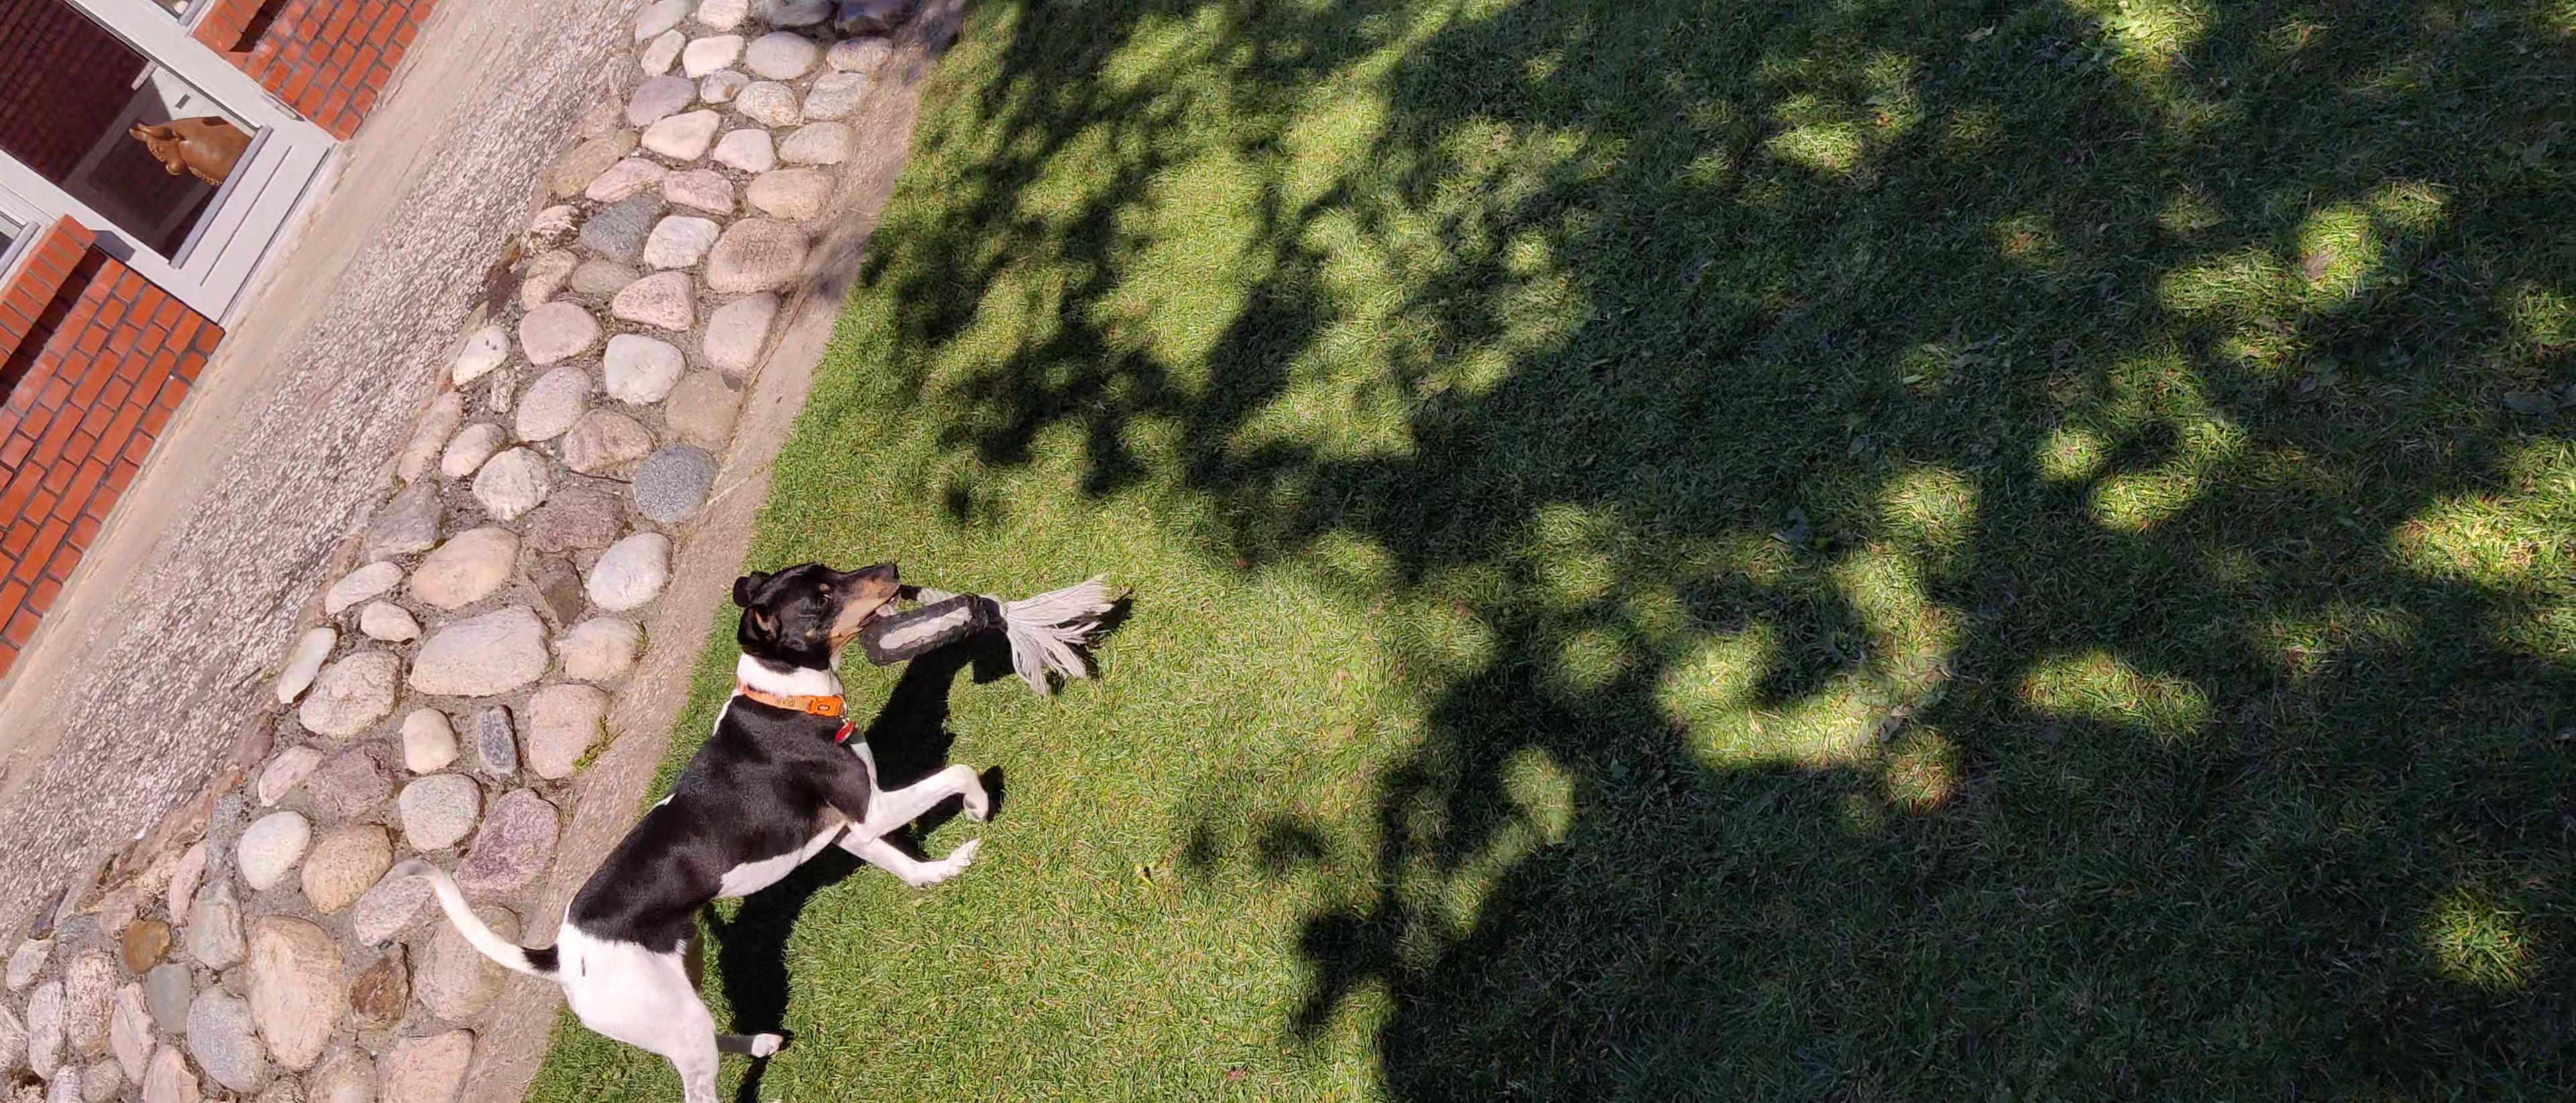Dog: (404, 552, 992, 1103)
